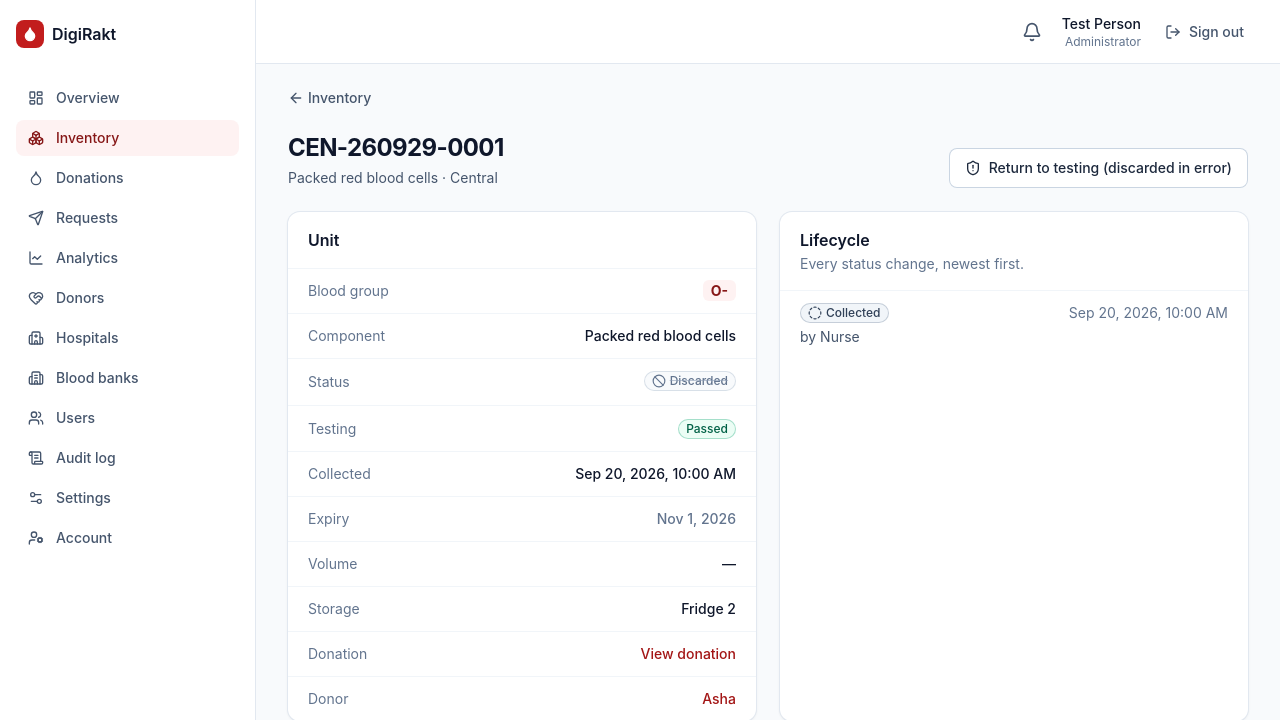
Test: unit detail › marks override actions distinctly
Click the button "Return to testing (discarded in error)".
click(1098, 168)  # box [949, 148, 1248, 188]
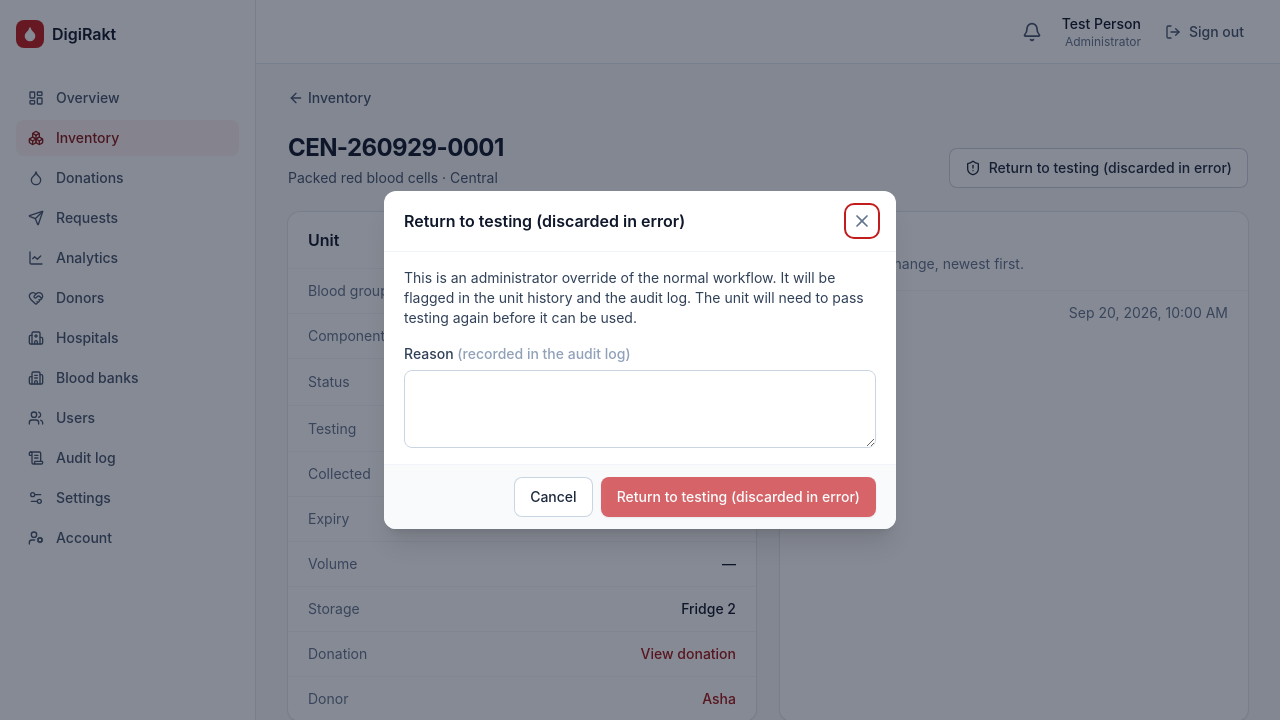
expect the dialog shows "administrator override": met, box [404, 269, 864, 326]
